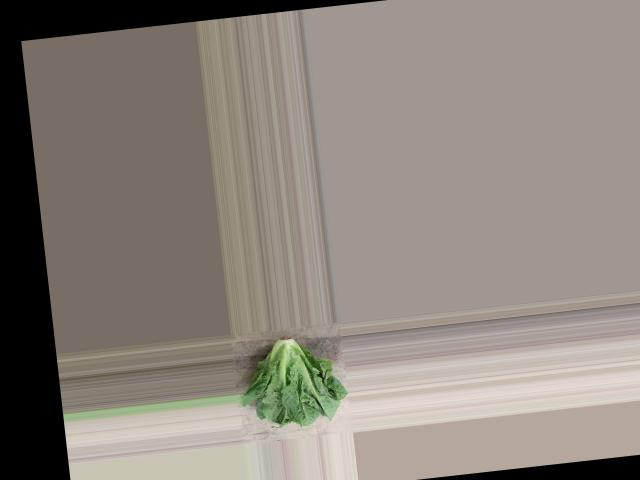lettuce: (234, 325, 347, 435)
